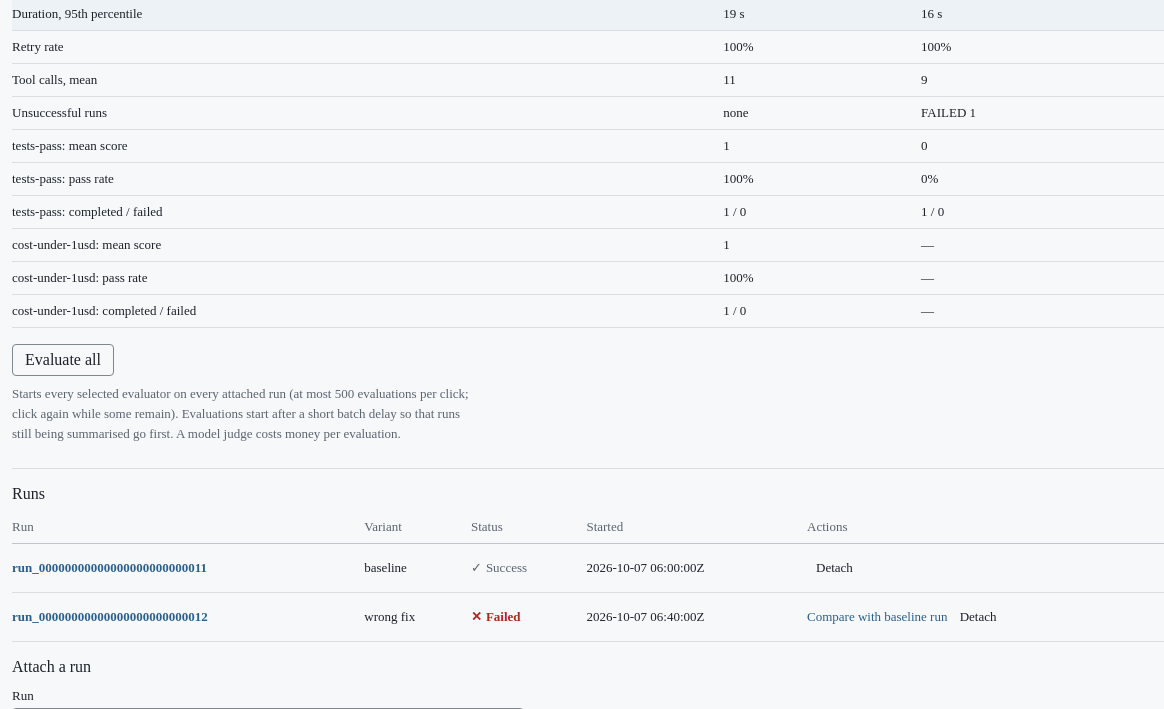
Experiment detail › evaluates all, tells about the cap, the remainder and the skipped evaluators
(page scrolled)
expect the text "short batch delay" is shown: met, box [12,386,469,441]
Click the button "Evaluate all". click: (63,360)
box: [12,344,114,376]
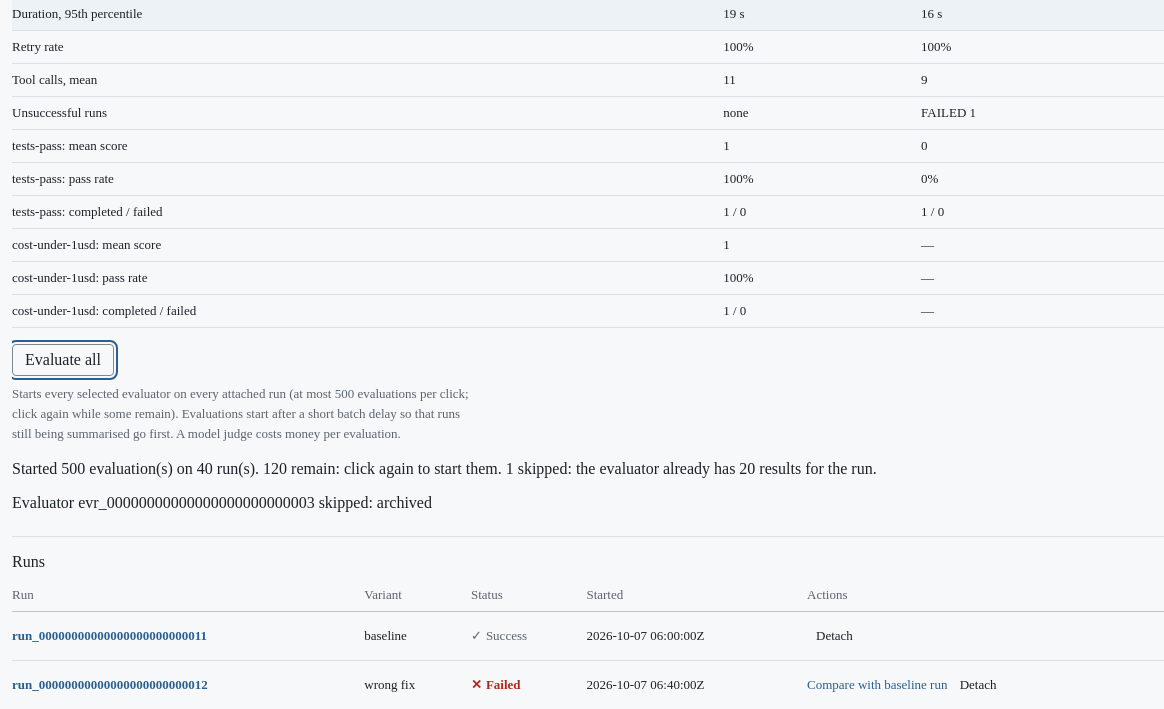
expect the message with test id "evaluate-result" shows "Started 500 evaluation(s) on 40 run(s).": met, box [12,460,877,511]
expect the message with test id "evaluate-result" shows "120 remain: click again": met, box [12,460,877,511]
expect the message with test id "evaluate-result" shows "skipped: archived": met, box [12,460,877,511]
